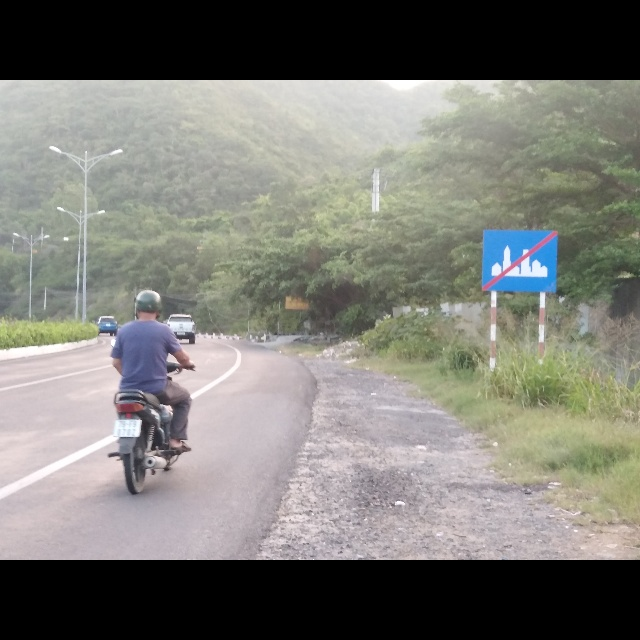Hết khu đông dân cư: (480, 228, 559, 295)
